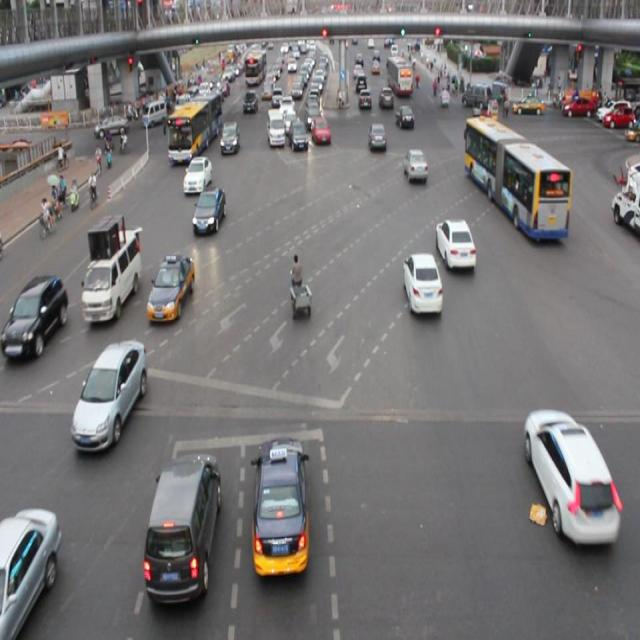car: (522, 406, 618, 543), (250, 437, 312, 575), (74, 339, 146, 450), (1, 505, 56, 640), (1, 274, 68, 358), (145, 252, 197, 324), (402, 253, 442, 312), (435, 218, 475, 268), (191, 188, 226, 234), (183, 154, 212, 197), (403, 146, 428, 184), (288, 115, 310, 153), (311, 114, 332, 150), (220, 119, 240, 154), (368, 121, 388, 154), (394, 104, 416, 132)
truck: (146, 452, 218, 606), (83, 222, 140, 322), (264, 109, 286, 149)
van: (465, 120, 568, 238), (167, 88, 221, 163)
